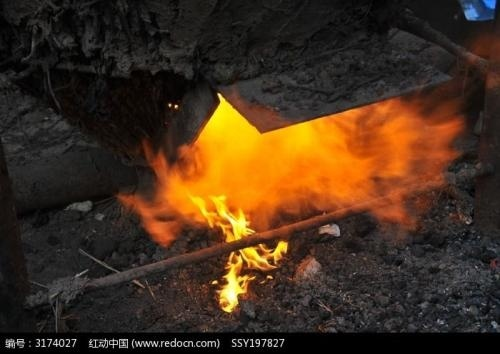fire: (162, 91, 467, 236)
